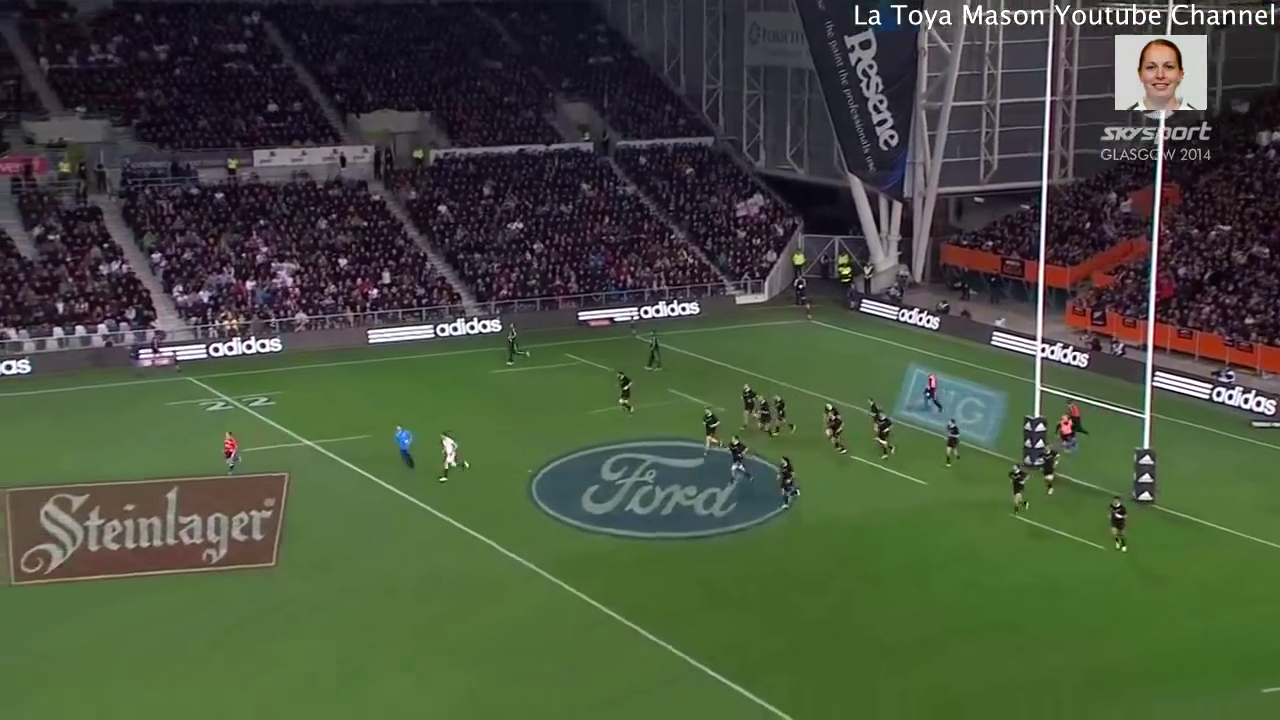player: (432, 428, 473, 492), (388, 417, 427, 481), (718, 426, 756, 491), (770, 450, 804, 514), (1103, 489, 1134, 556), (731, 377, 762, 439), (1031, 436, 1061, 499), (694, 402, 726, 461), (767, 388, 800, 445), (872, 407, 903, 467), (1005, 458, 1035, 519), (937, 415, 966, 475), (1047, 411, 1086, 455), (916, 364, 947, 419), (638, 323, 668, 379), (215, 424, 245, 478), (612, 368, 640, 423), (750, 386, 775, 446), (502, 322, 531, 373), (1063, 396, 1094, 443), (825, 410, 847, 456), (817, 397, 840, 418), (869, 399, 883, 425)
post: (1014, 1, 1171, 523)
